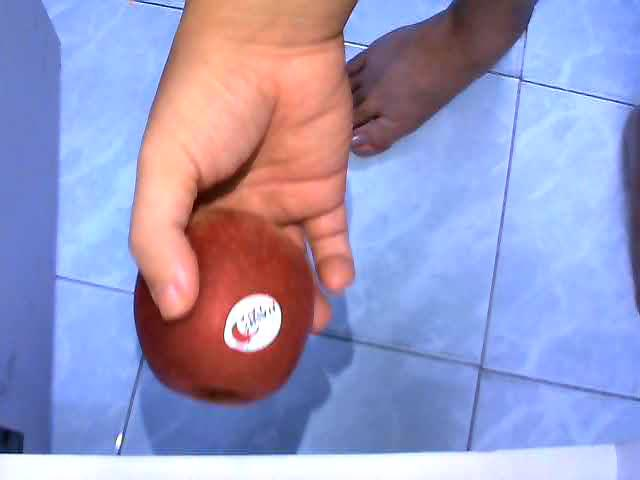apple: (129, 205, 317, 406)
